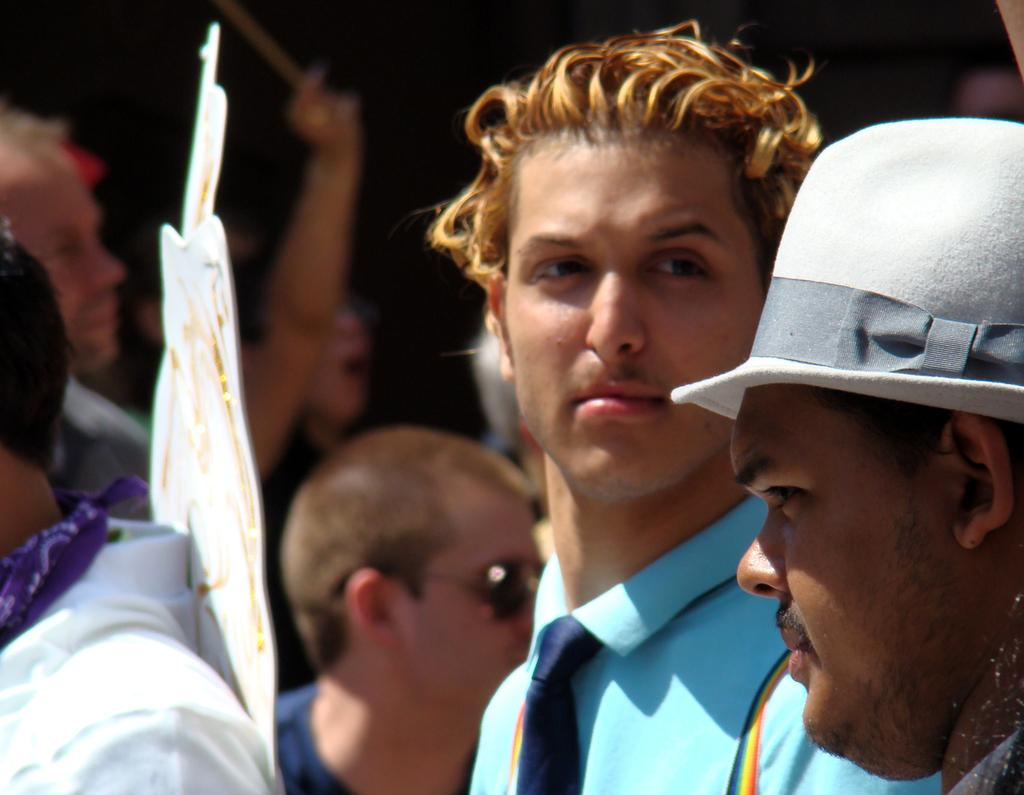Hat: (666, 113, 1022, 422)
